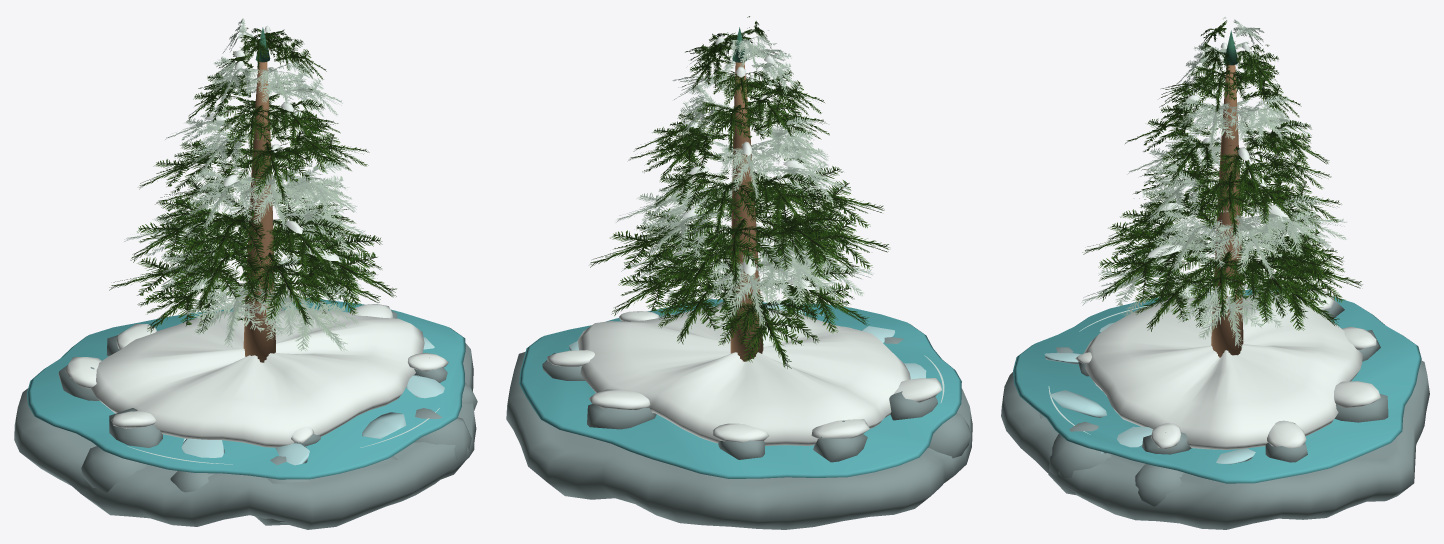
The model's file is snowy-island-v10.fbx.
The picture shows the model from 3 angles, left to right: view 1: azimuth 30°, elevation 25°; view 2: azimuth 150°, elevation 25°; view 3: azimuth 270°, elevation 25°; orthographic projection.
Visible parts, largest first — view 1: Snowy | Snow | soft, Snowy | Pine | twig atlas, Snowy | Rock | blue grey, Snowy | Pine | frost atlas, Snowy | Sea | icy turquoise, Snowy | Pine | bark, Snowy | Ice | pale blue; view 2: Snowy | Pine | twig atlas, Snowy | Snow | soft, Snowy | Rock | blue grey, Snowy | Sea | icy turquoise, Snowy | Pine | frost atlas, Snowy | Pine | bark, Snowy | Ice | pale blue; view 3: Snowy | Snow | soft, Snowy | Pine | twig atlas, Snowy | Rock | blue grey, Snowy | Sea | icy turquoise, Snowy | Pine | frost atlas, Snowy | Pine | bark, Snowy | Ice | pale blue.
Part boxes in pixels (x1=…): Snowy | Snow | soft: x1=65, y1=25, x2=448, y2=447; Snowy | Pine | twig atlas: x1=109, y1=27, x2=396, y2=333; Snowy | Rock | blue grey: x1=14, y1=310, x2=477, y2=529; Snowy | Pine | frost atlas: x1=124, y1=18, x2=374, y2=351; Snowy | Sea | icy turquoise: x1=27, y1=298, x2=465, y2=479; Snowy | Pine | bark: x1=243, y1=62, x2=275, y2=362; Snowy | Ice | pale blue: x1=181, y1=337, x2=444, y2=465; Snowy | Pine | twig atlas: x1=590, y1=16, x2=889, y2=368; Snowy | Snow | soft: x1=547, y1=36, x2=941, y2=445; Snowy | Rock | blue grey: x1=506, y1=301, x2=972, y2=529; Snowy | Sea | icy turquoise: x1=519, y1=299, x2=961, y2=478; Snowy | Pine | frost atlas: x1=616, y1=30, x2=873, y2=327; Snowy | Pine | bark: x1=730, y1=62, x2=763, y2=361; Snowy | Ice | pale blue: x1=569, y1=299, x2=926, y2=379; Snowy | Snow | soft: x1=1075, y1=42, x2=1380, y2=449; Snowy | Pine | twig atlas: x1=1082, y1=20, x2=1362, y2=331; Snowy | Rock | blue grey: x1=1001, y1=291, x2=1429, y2=529; Snowy | Sea | icy turquoise: x1=1013, y1=287, x2=1421, y2=483; Snowy | Pine | frost atlas: x1=1081, y1=17, x2=1346, y2=347; Snowy | Pine | bark: x1=1211, y1=65, x2=1243, y2=357; Snowy | Ice | pale blue: x1=1044, y1=322, x2=1255, y2=464.
Size of the model in its own units: 164 by 159 by 144.
9 materials, 2 textured.
